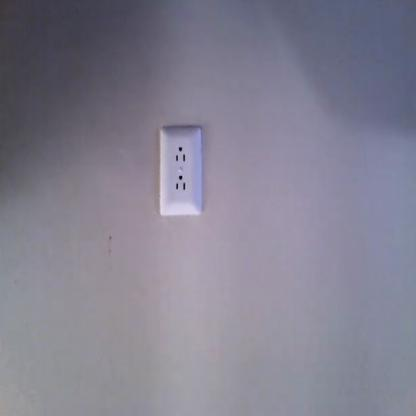OUTLET: (158, 127, 203, 217)
